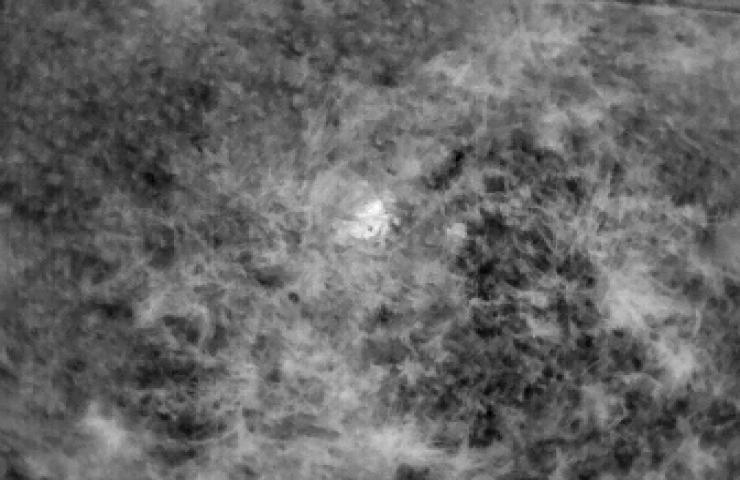landmines: (346, 196, 401, 250)
